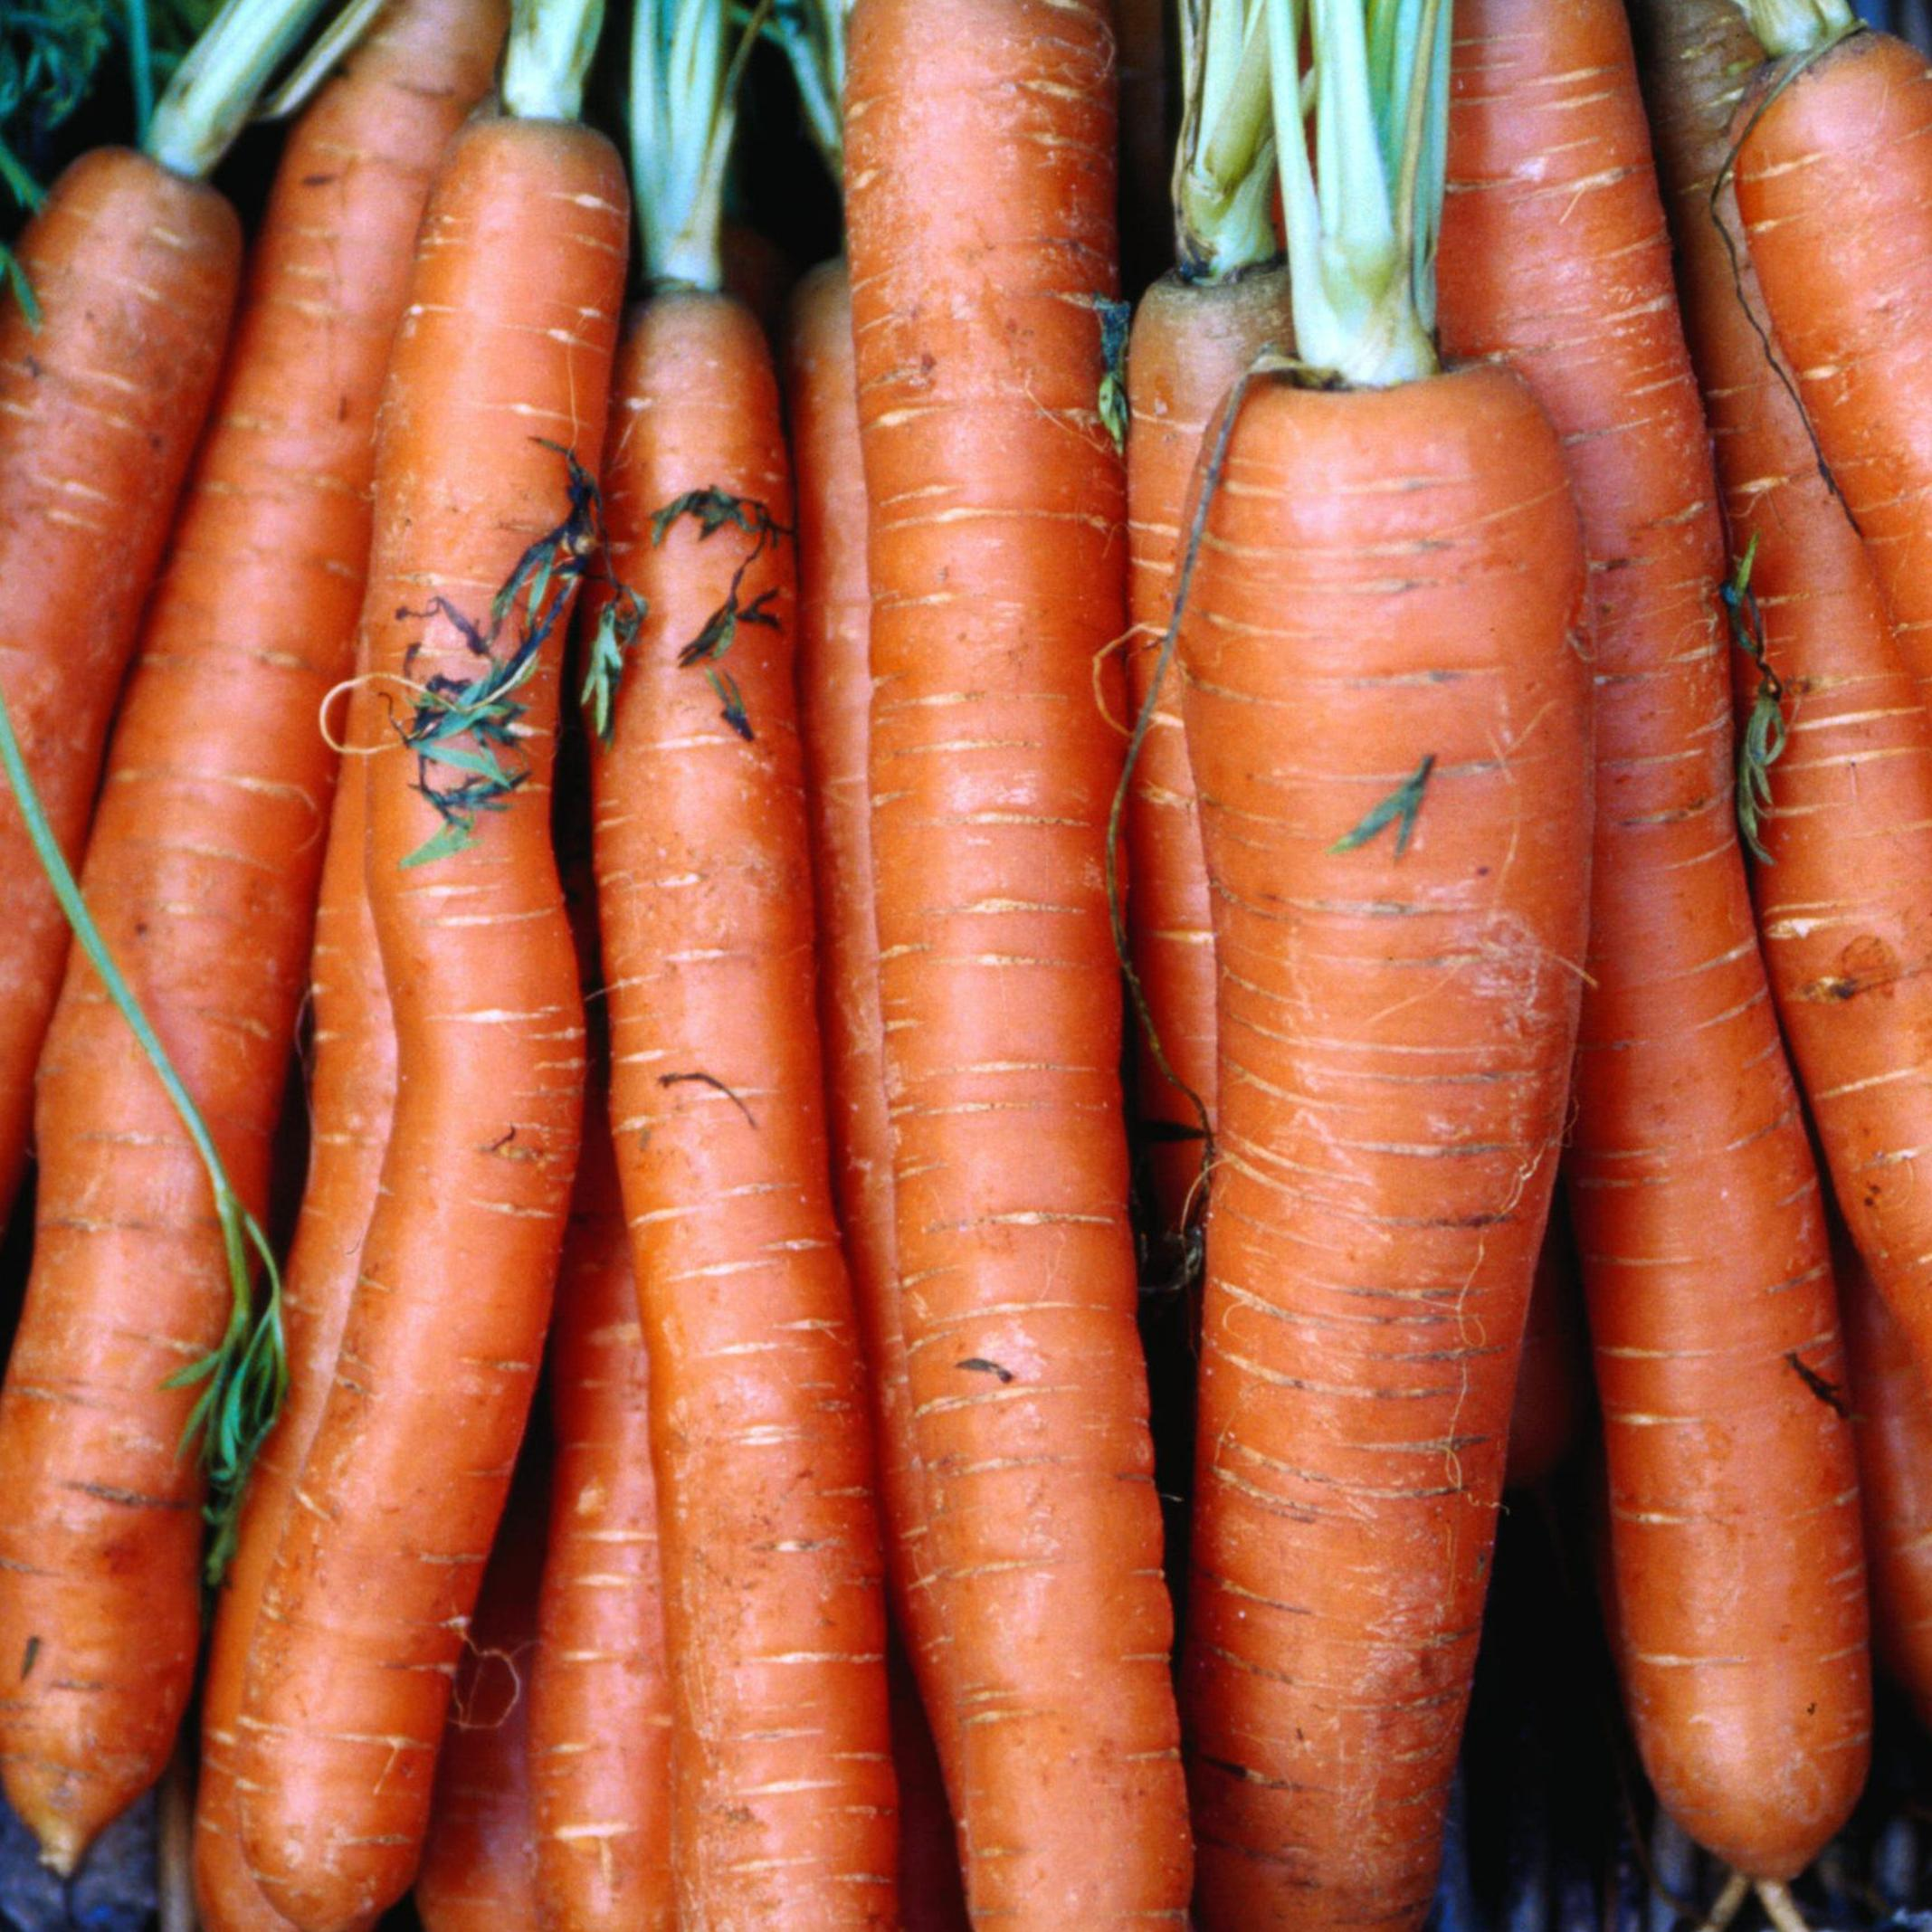carrot: (0, 46, 1932, 1932), (299, 129, 893, 1932), (1077, 334, 1674, 1932)
